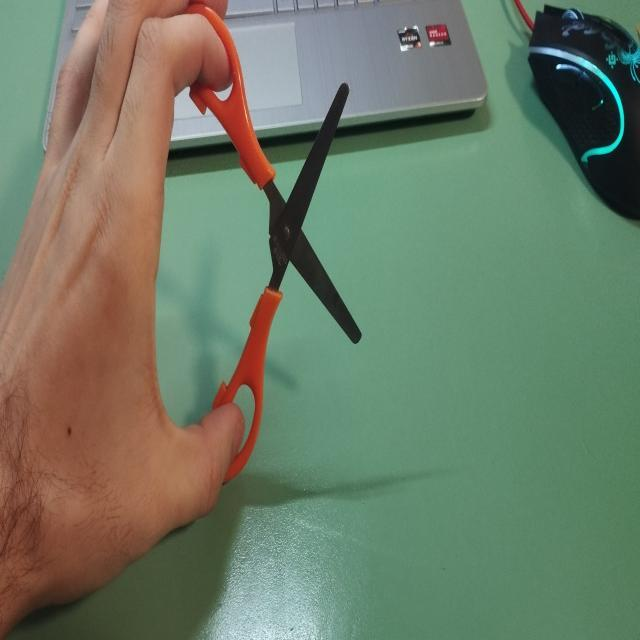tesoura: (184, 0, 365, 486)
